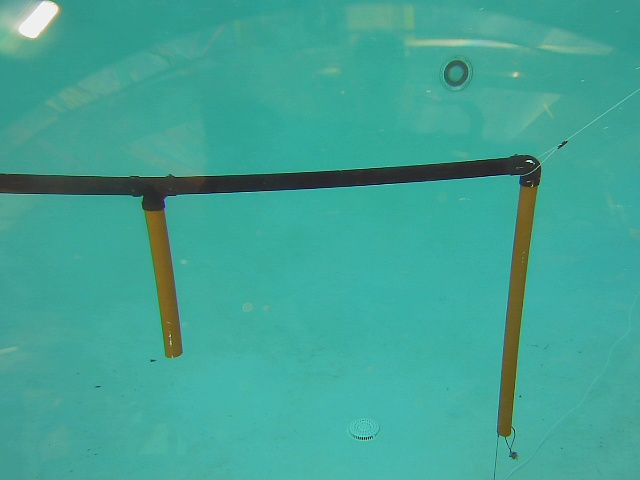Gate: (489, 178, 541, 445), (140, 200, 186, 363)
